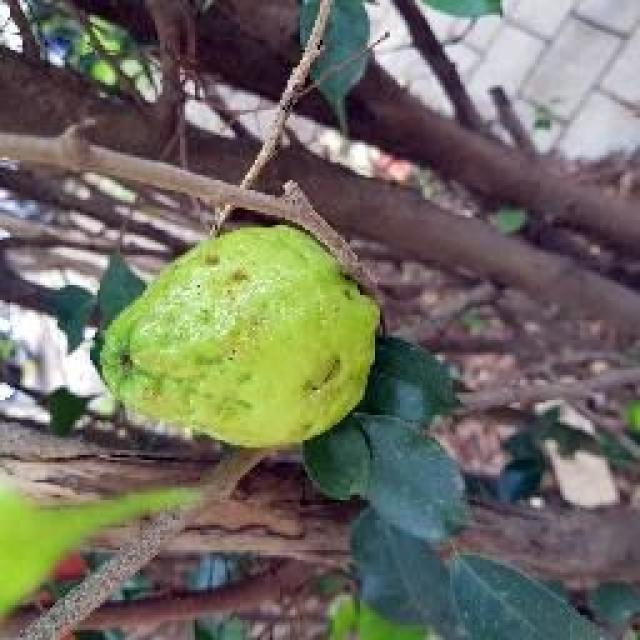Good_Guava: (92, 225, 380, 450)
